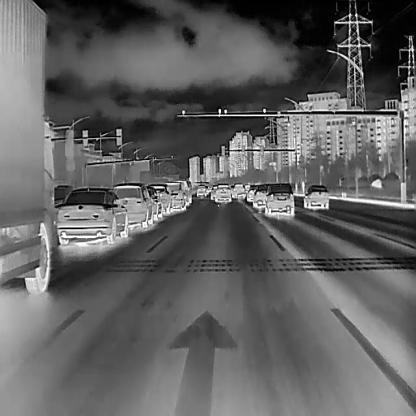car: (55, 186, 129, 245), (113, 182, 153, 228), (264, 181, 294, 215), (147, 182, 171, 214), (144, 185, 163, 220), (302, 184, 329, 208), (164, 181, 185, 211), (252, 183, 269, 210), (176, 179, 192, 206), (214, 183, 231, 201), (231, 183, 244, 198), (246, 187, 257, 202), (196, 183, 205, 195)
